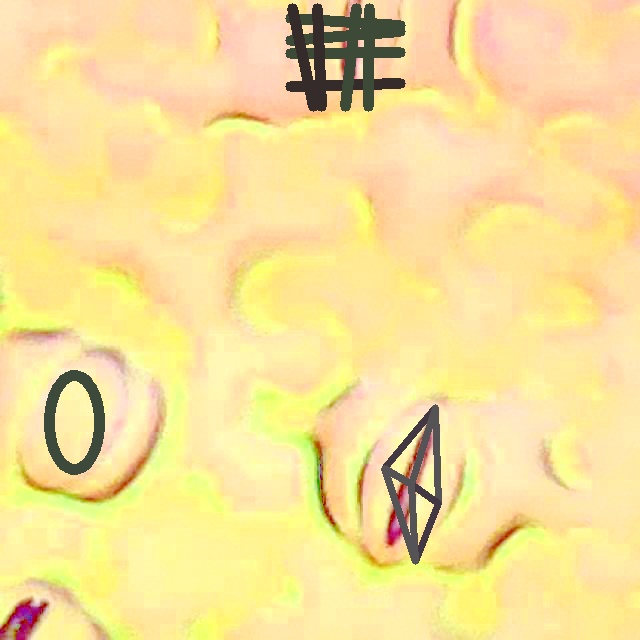close: (44, 368, 103, 475)
open: (285, 3, 404, 110), (381, 404, 441, 564)
